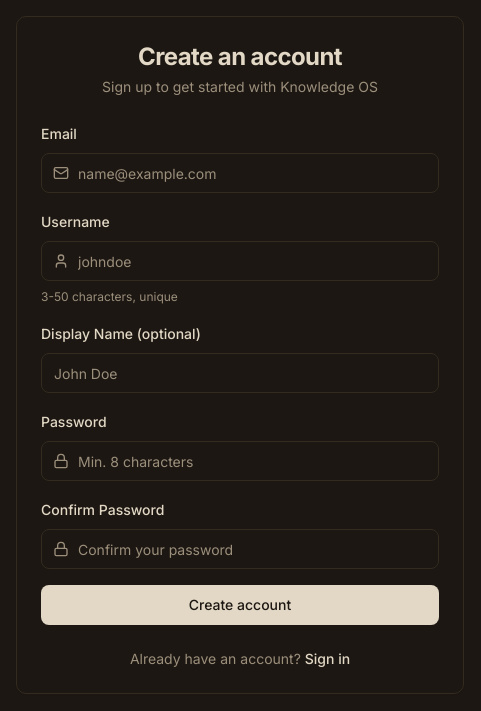
Test case: LoginPage › Register Mode › switches to login mode
Click the button "Sign in" at (328, 659), box [305, 649, 350, 669]
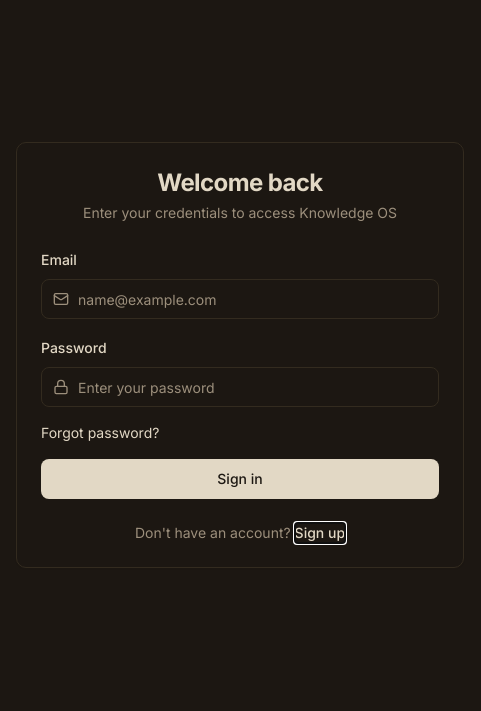
Expected: the heading "Welcome back" is shown, [157, 168, 323, 197]
